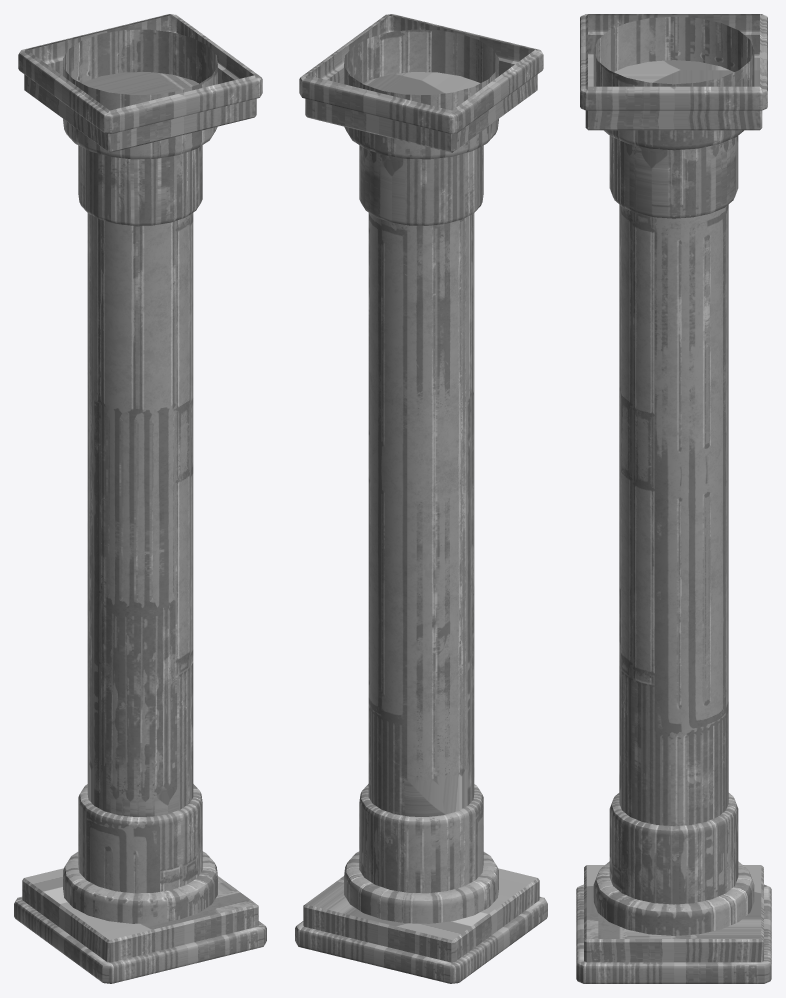
Rendered from SM_Column.fbx.
The picture shows the model from 3 angles, left to right: view 1: azimuth 30°, elevation 25°; view 2: azimuth 150°, elevation 25°; view 3: azimuth 270°, elevation 25°; orthographic projection. The views are drawn at different scales.
Visible parts, largest first — view 1: SM_Column_LOD0; view 2: SM_Column_LOD0; view 3: SM_Column_LOD0.
Part boxes in pixels (left/top/right/bottom): SM_Column_LOD0: left=14, top=14, right=266, bottom=983; SM_Column_LOD0: left=295, top=14, right=547, bottom=983; SM_Column_LOD0: left=576, top=14, right=771, bottom=983.
Size of the model in its own units: 116 by 116 by 588.
